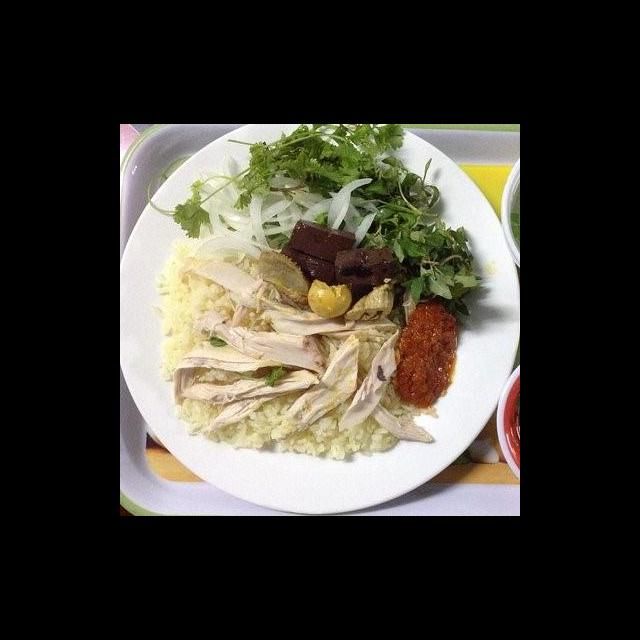com: (176, 388, 412, 465), (149, 242, 244, 382)
rau ram: (346, 153, 487, 330)
thit ga: (170, 342, 326, 440), (190, 309, 331, 377), (281, 330, 363, 436), (336, 326, 405, 434), (253, 293, 401, 343)
trung: (304, 276, 355, 322)
